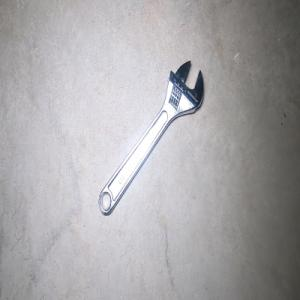Wrench: (98, 60, 203, 214)
